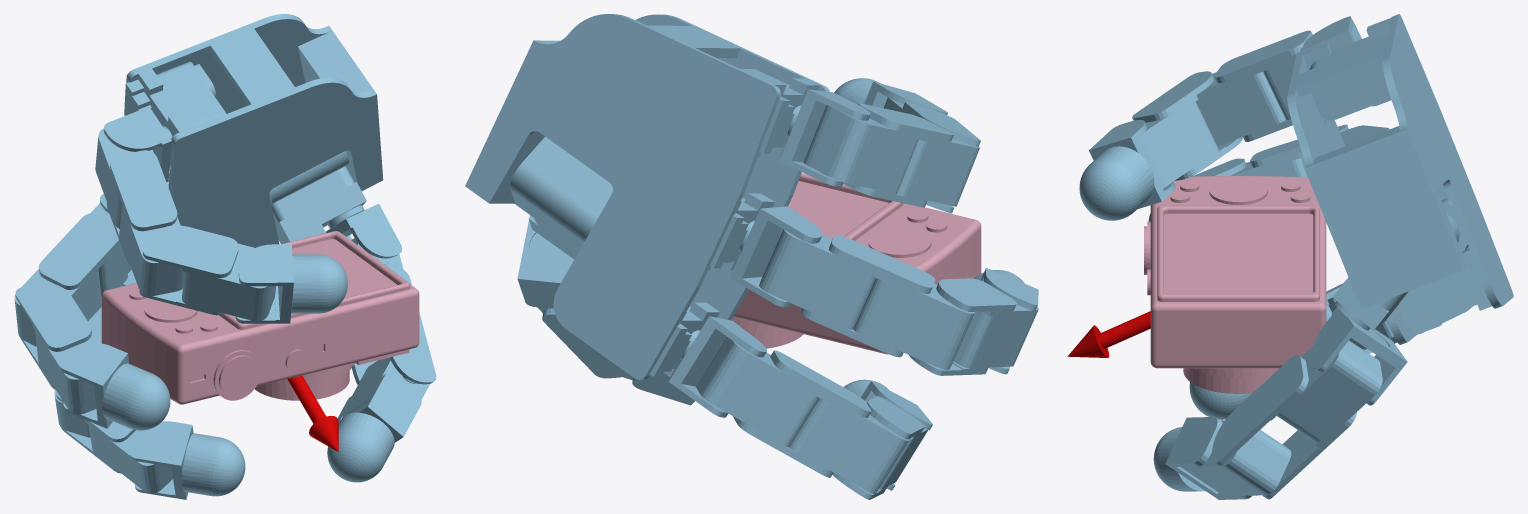
The picture shows the model from 3 angles, left to right: view 1: azimuth 30°, elevation 25°; view 2: azimuth 150°, elevation 25°; view 3: azimuth 270°, elevation 25°; orthographic projection. The views are drawn at different scales.
Parts seen in each view (by area): view 1: world, camera.stl; view 2: world, camera.stl; view 3: world, camera.stl.
Boxes of the visible parts, <box> form: world: <box>14,14,436,499</box>; camera.stl: <box>101,231,419,404</box>; world: <box>465,14,1038,499</box>; camera.stl: <box>731,173,981,354</box>; world: <box>1067,14,1513,499</box>; camera.stl: <box>1144,176,1326,393</box>.
Size of the model in its own units: 0.1784 by 0.1777 by 0.1644.
